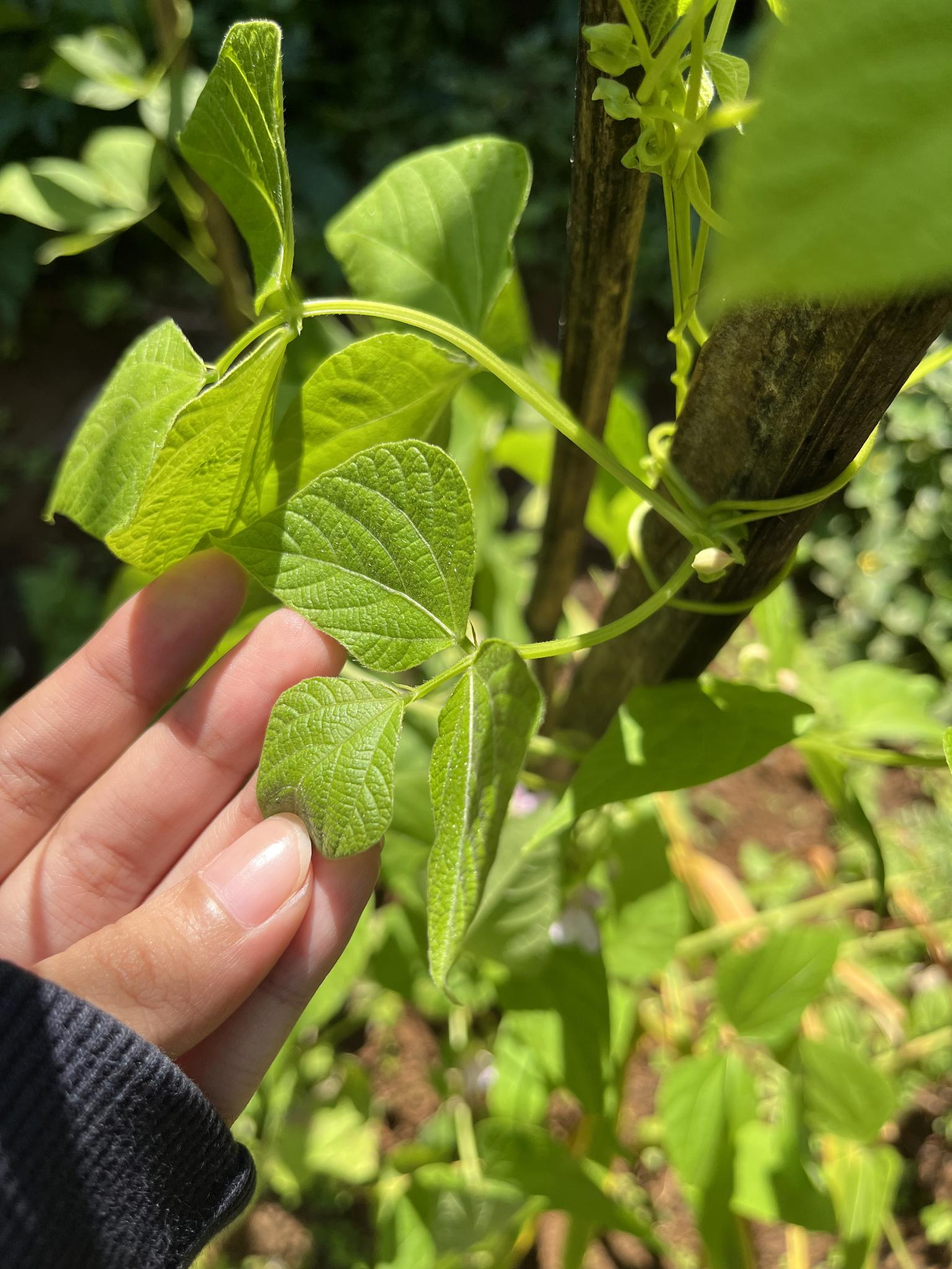sehat: (226, 427, 480, 675)
